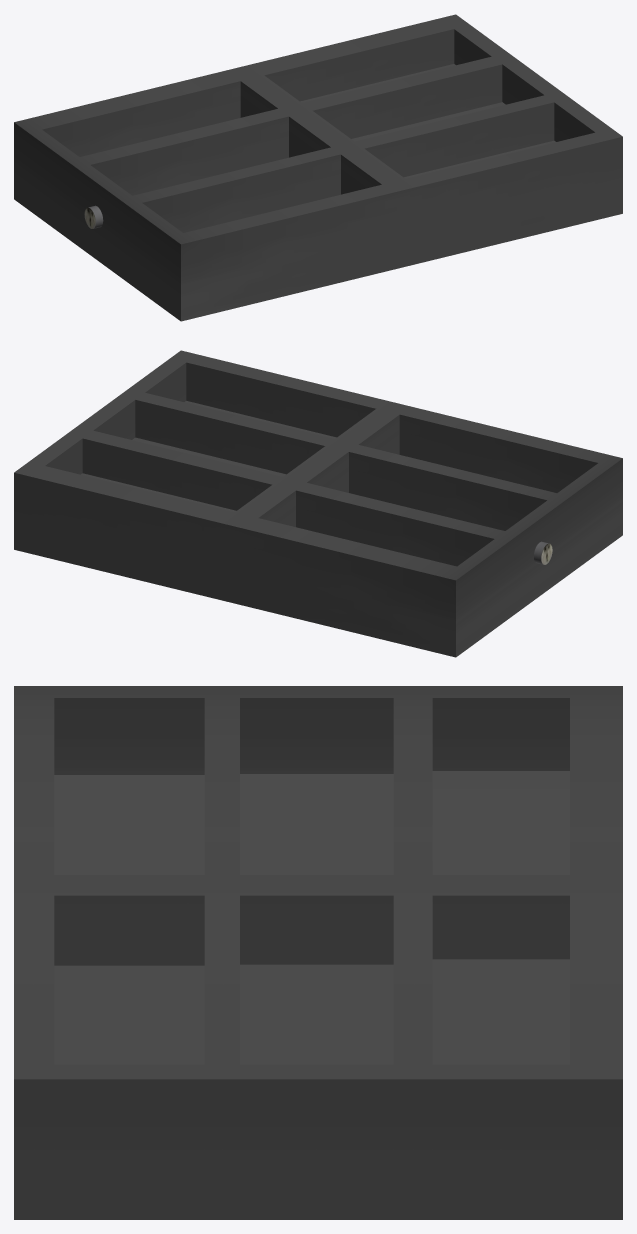
The model's file is dinero_registradora.obj.
3 views of the same model, one above another, from view 1: azimuth 30°, elevation 25°; view 2: azimuth 150°, elevation 25°; view 3: azimuth 270°, elevation 25° (orthographic). The views are drawn at different scales.
Parts seen in each view (by area): view 1: cajaDinero; view 2: cajaDinero; view 3: cajaDinero.
Boxes of the visible parts, x1,y1,x2,y2 form: cajaDinero: [14, 14, 622, 321]; cajaDinero: [14, 350, 622, 657]; cajaDinero: [14, 686, 622, 1219].
Size of the model in its own units: 0.366 by 0.0613 by 0.2356.
1 material, 1 textured.
